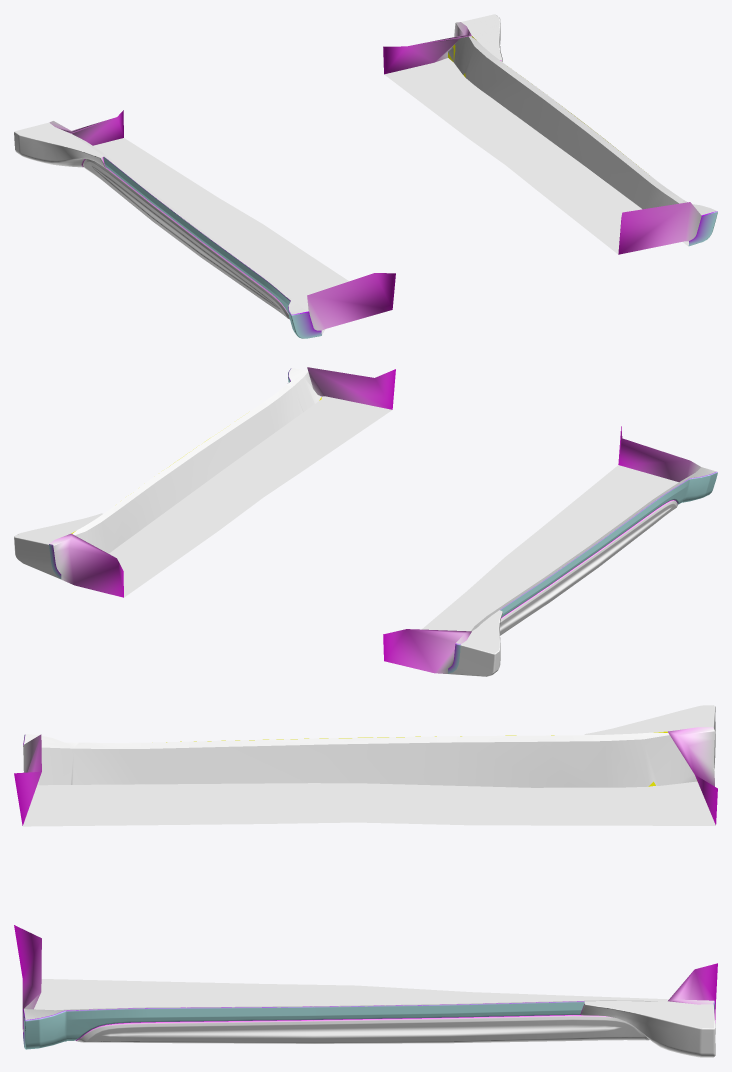
The model's file is Car_Mini_CountrymanJCW_2017_Skirts_SetA_AltE.fbx.
3 views of the same model, one above another, from view 1: azimuth 30°, elevation 25°; view 2: azimuth 150°, elevation 25°; view 3: azimuth 270°, elevation 25° (orthographic). The views are drawn at different scales.
Parts seen in each view (by area): view 1: Skirts 6; view 2: Skirts 6; view 3: Skirts 6.
Part boxes in pixels (x1,y1,x2,y2): Skirts 6: (14,14,717,338); Skirts 6: (14,367,717,676); Skirts 6: (14,705,717,1057).
Bounding box in the file's own units: 2.07 × 0.1973 × 1.9.
